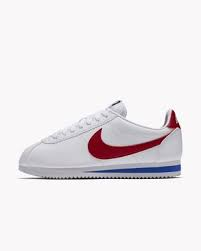nike: (86, 126, 171, 164)
